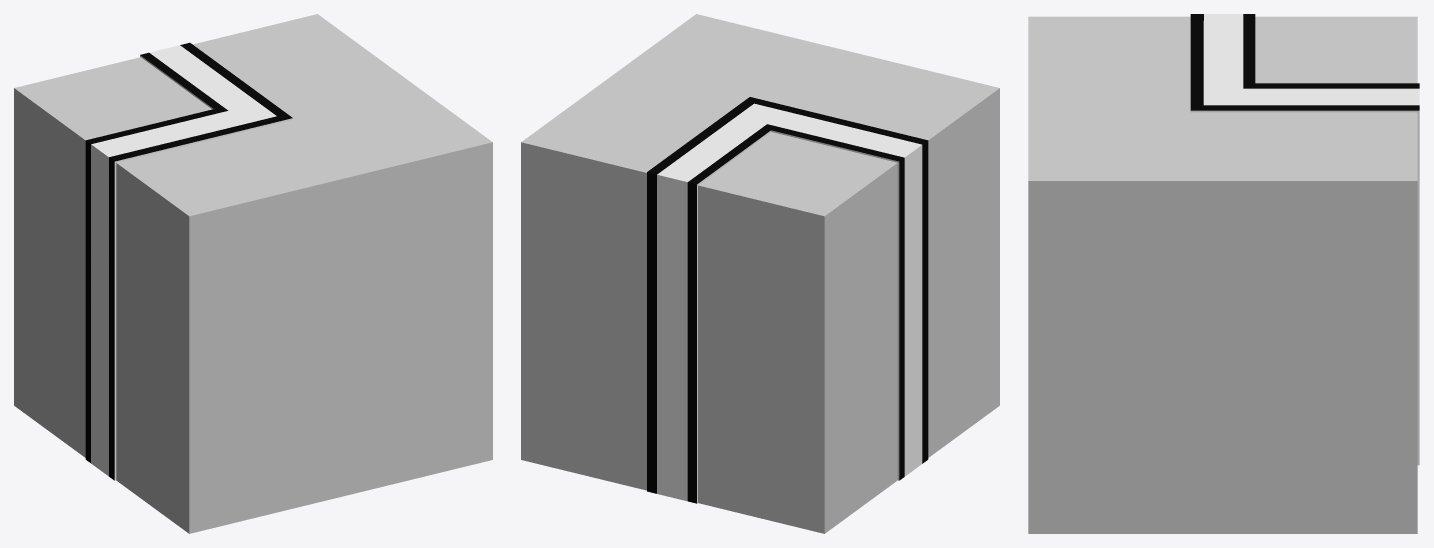
Rendered from Cube_Stripes.fbx.
The picture shows the model from 3 angles, left to right: view 1: azimuth 30°, elevation 25°; view 2: azimuth 150°, elevation 25°; view 3: azimuth 270°, elevation 25°; orthographic projection. The views are drawn at different scales.
Visible parts, largest first — view 1: Cube, Stripes_Cube; view 2: Cube, Stripes_Cube; view 3: Cube, Stripes_Cube.
Boxes of the visible parts, x1=… form: Cube: x1=14, y1=14, x2=492, y2=533; Stripes_Cube: x1=85, y1=42, x2=292, y2=480; Cube: x1=521, y1=14, x2=999, y2=533; Stripes_Cube: x1=647, y1=97, x2=928, y2=503; Cube: x1=1028, y1=16, x2=1417, y2=533; Stripes_Cube: x1=1190, y1=14, x2=1419, y2=465.
Size of the model in its own units: 1 by 1.01 by 1.
Materials: 1 (1 with a texture image).
